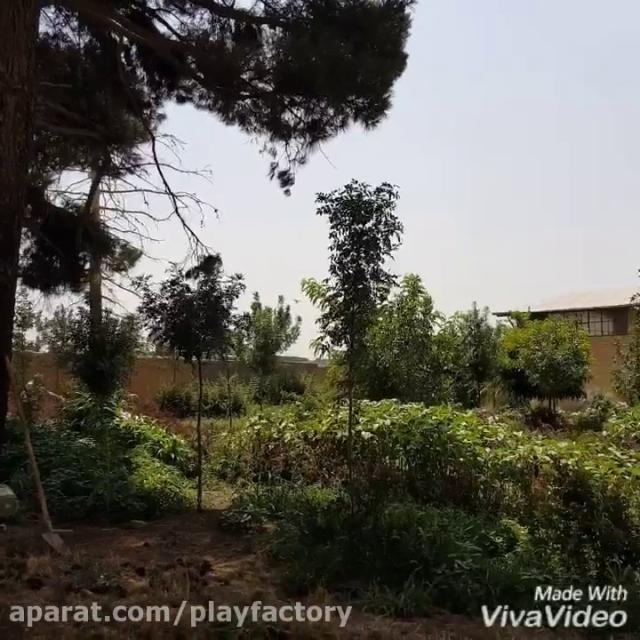drone: (289, 292, 304, 305)
